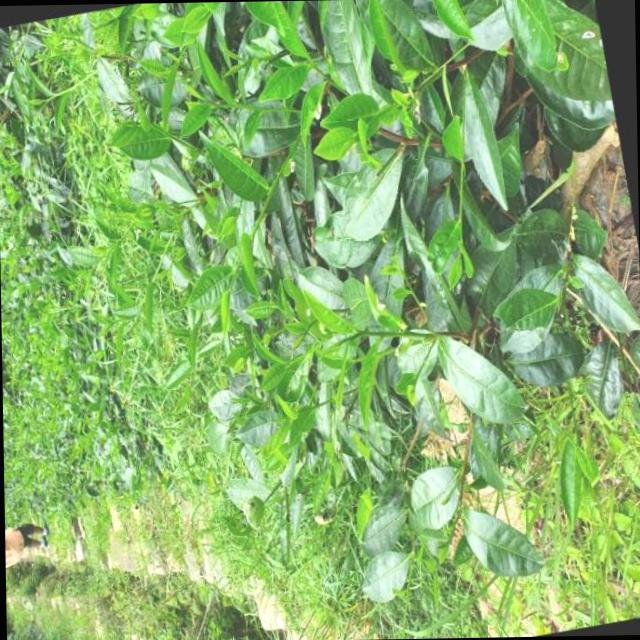Stem: (356, 331, 364, 335), (307, 63, 313, 67), (213, 104, 220, 107), (285, 360, 290, 362)
